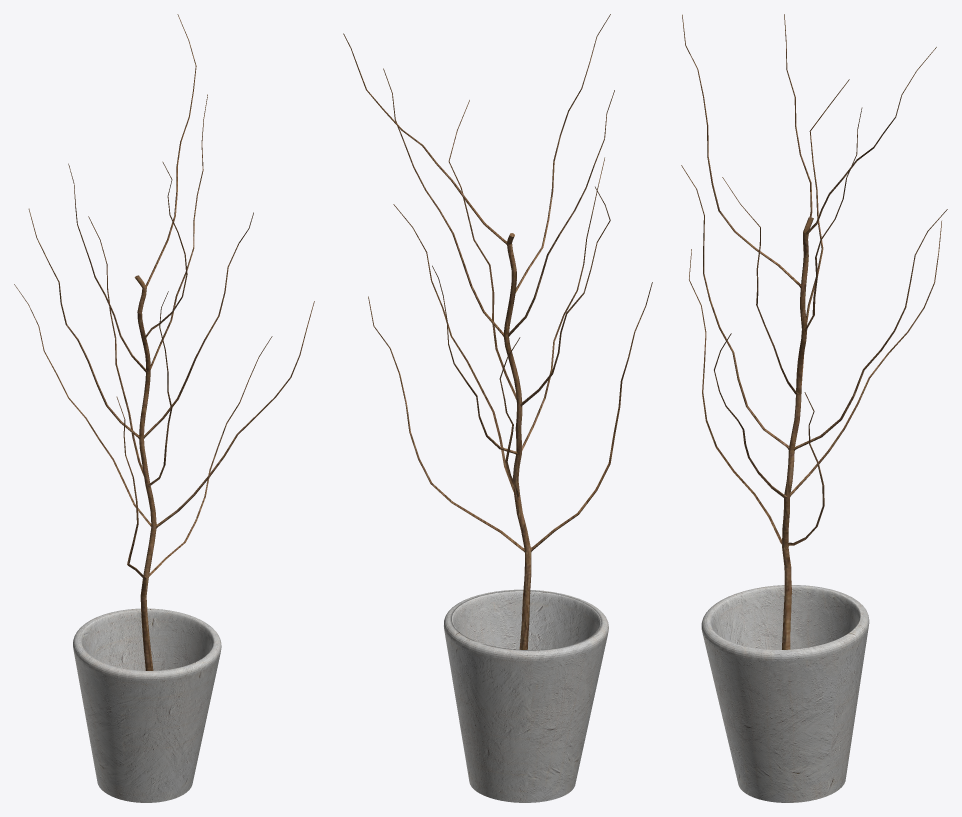
File: Matera 2.fbx
3 views of the same model, side by side, from view 1: azimuth 30°, elevation 25°; view 2: azimuth 150°, elevation 25°; view 3: azimuth 270°, elevation 25° (orthographic). The views are drawn at different scales.
Parts seen in each view (by area): view 1: Line003, Object007; view 2: Line003, Object007; view 3: Line003, Object007.
Part boxes in pixels (left/top/right/bottom): Line003: left=73, top=608, right=221, bottom=802; Object007: left=14, top=14, right=314, bottom=670; Line003: left=444, top=589, right=608, bottom=802; Object007: left=343, top=14, right=652, bottom=649; Line003: left=701, top=585, right=869, bottom=802; Object007: left=681, top=14, right=947, bottom=649.
Bounding box in the file's own units: 29.89 × 85.03 × 26.05.
